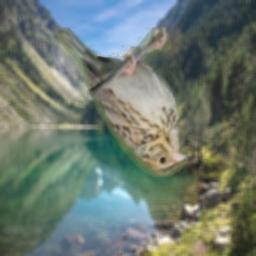Sparrow: (57, 27, 187, 177)
